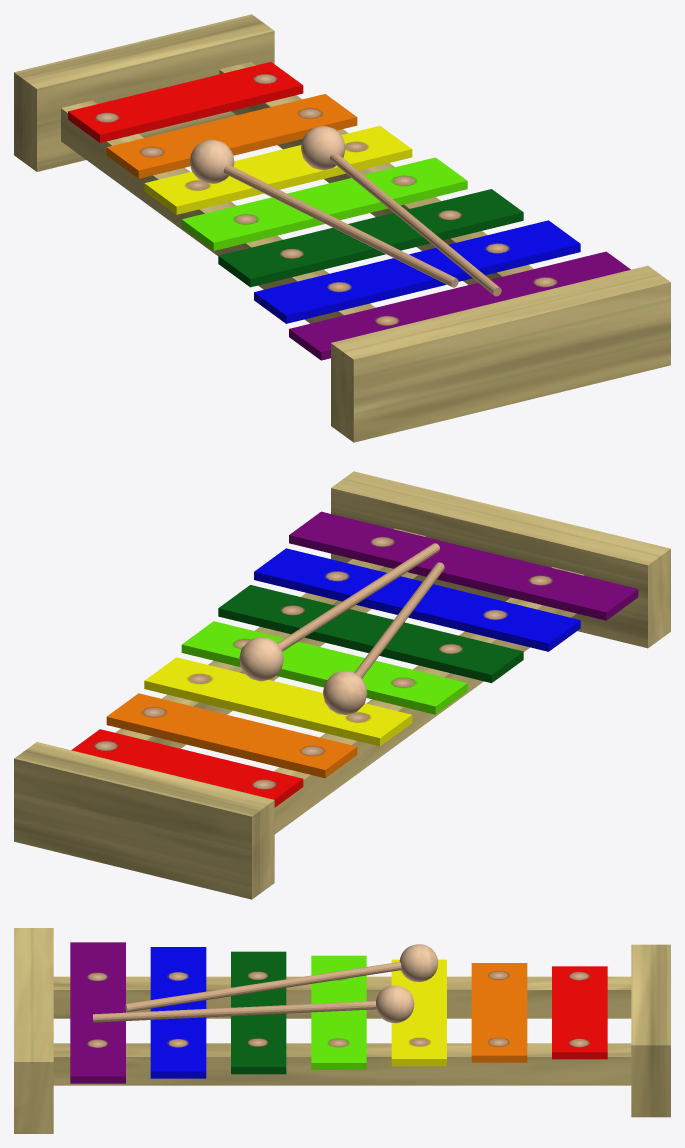
File: rainbowXylopohne.fbx
3 views of the same model, one above another, from view 1: azimuth 30°, elevation 25°; view 2: azimuth 150°, elevation 25°; view 3: azimuth 270°, elevation 25° (orthographic). The views are drawn at different scales.
Visible parts, largest first — view 1: xylophone4; view 2: xylophone4; view 3: xylophone4.
Part boxes in pixels (x1,y1,x2,y2): xylophone4: [14, 14, 670, 442]; xylophone4: [14, 471, 670, 899]; xylophone4: [14, 928, 670, 1133].
Size of the model in its own units: 40 by 12.91 by 82.86.
Materials: 1 (1 with a texture image).
